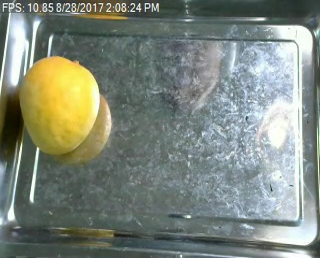Mango: (19, 58, 100, 152)
